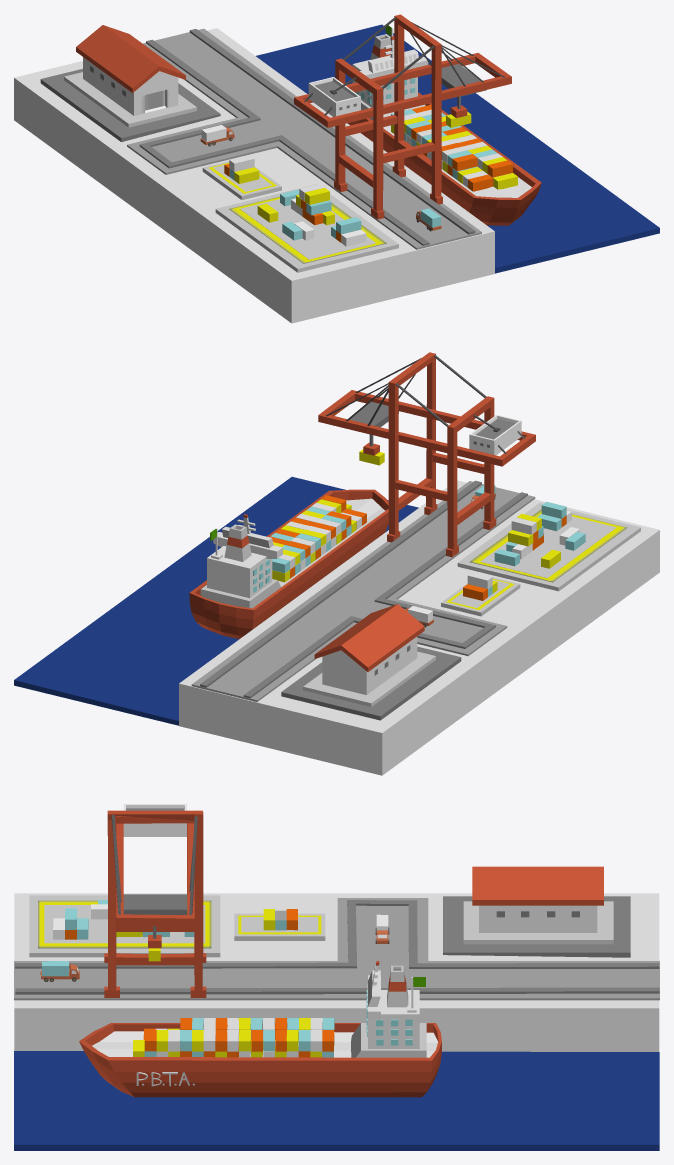
The model's file is Port.fbx.
3 renders of one model, top to bottom at view 1: azimuth 30°, elevation 25°; view 2: azimuth 150°, elevation 25°; view 3: azimuth 270°, elevation 25°, orthographic. The views are drawn at different scales.
Visible parts, largest first — view 1: Port; view 2: Port; view 3: Port.
Boxes of the visible parts, left/top/right/bottom form: Port: left=14, top=14, right=659, bottom=323; Port: left=14, top=352, right=659, bottom=775; Port: left=14, top=804, right=659, bottom=1150.
Size of the model in its own units: 1182 by 624 by 1546.
Materials: 1 (1 with a texture image).
